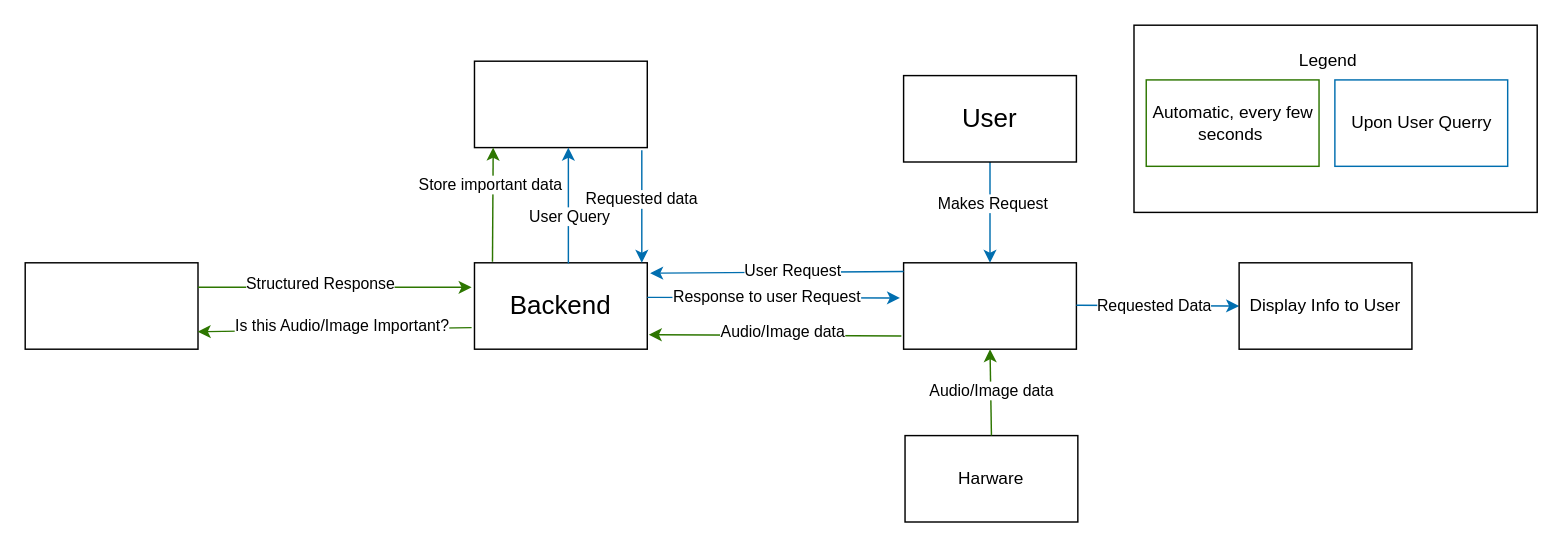
Some shapes in this 1562 by 547 pixel diagram are drawn without their labels. The shapes that lost their labels are listed below. From the top down, each one's box as (x1, y1, x2, y2) in pixels, then its label:
(473, 60, 647, 148): Database
(24, 261, 198, 349): AI
(902, 261, 1076, 349): Frontend
